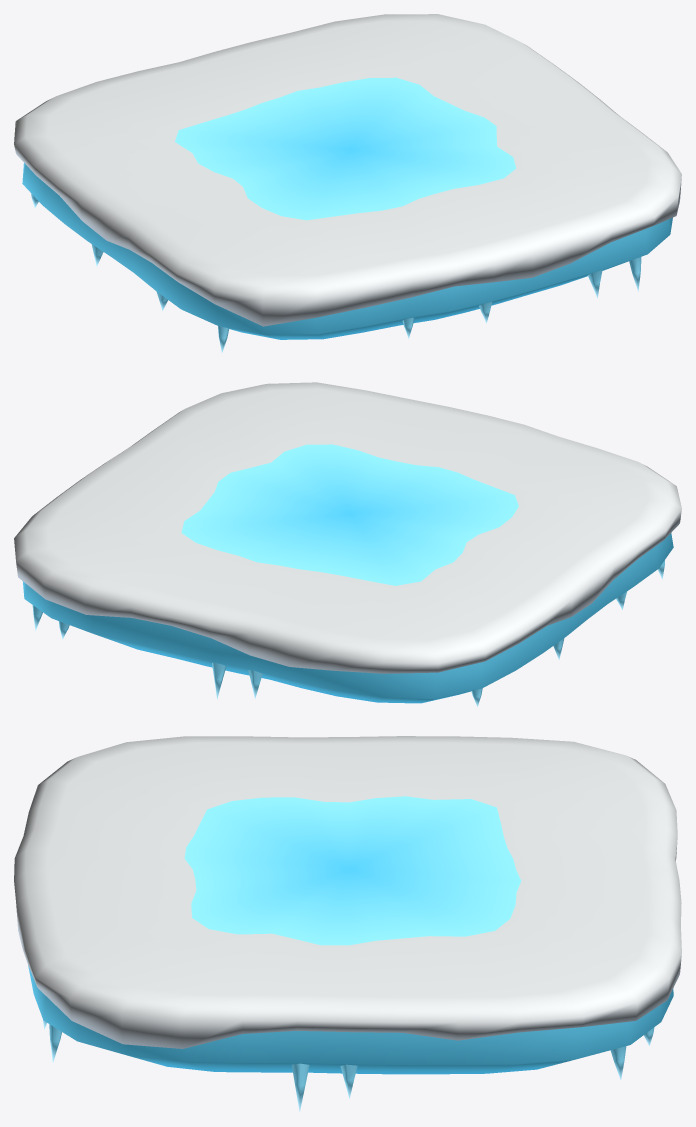
The model's file is platform_snow.glb.
3 views of the same model, one above another, from view 1: azimuth 30°, elevation 25°; view 2: azimuth 150°, elevation 25°; view 3: azimuth 270°, elevation 25° (orthographic). The views are drawn at different scales.
Parts seen in each view (by area): view 1: platform_snow; view 2: platform_snow; view 3: platform_snow.
Boxes of the visible parts, x1=… form: platform_snow: x1=14, y1=14, x2=681, y2=352; platform_snow: x1=14, y1=382, x2=681, y2=706; platform_snow: x1=14, y1=736, x2=681, y2=1112.
Bounding box in the file's own units: 2.99 × 0.6 × 2.99.
